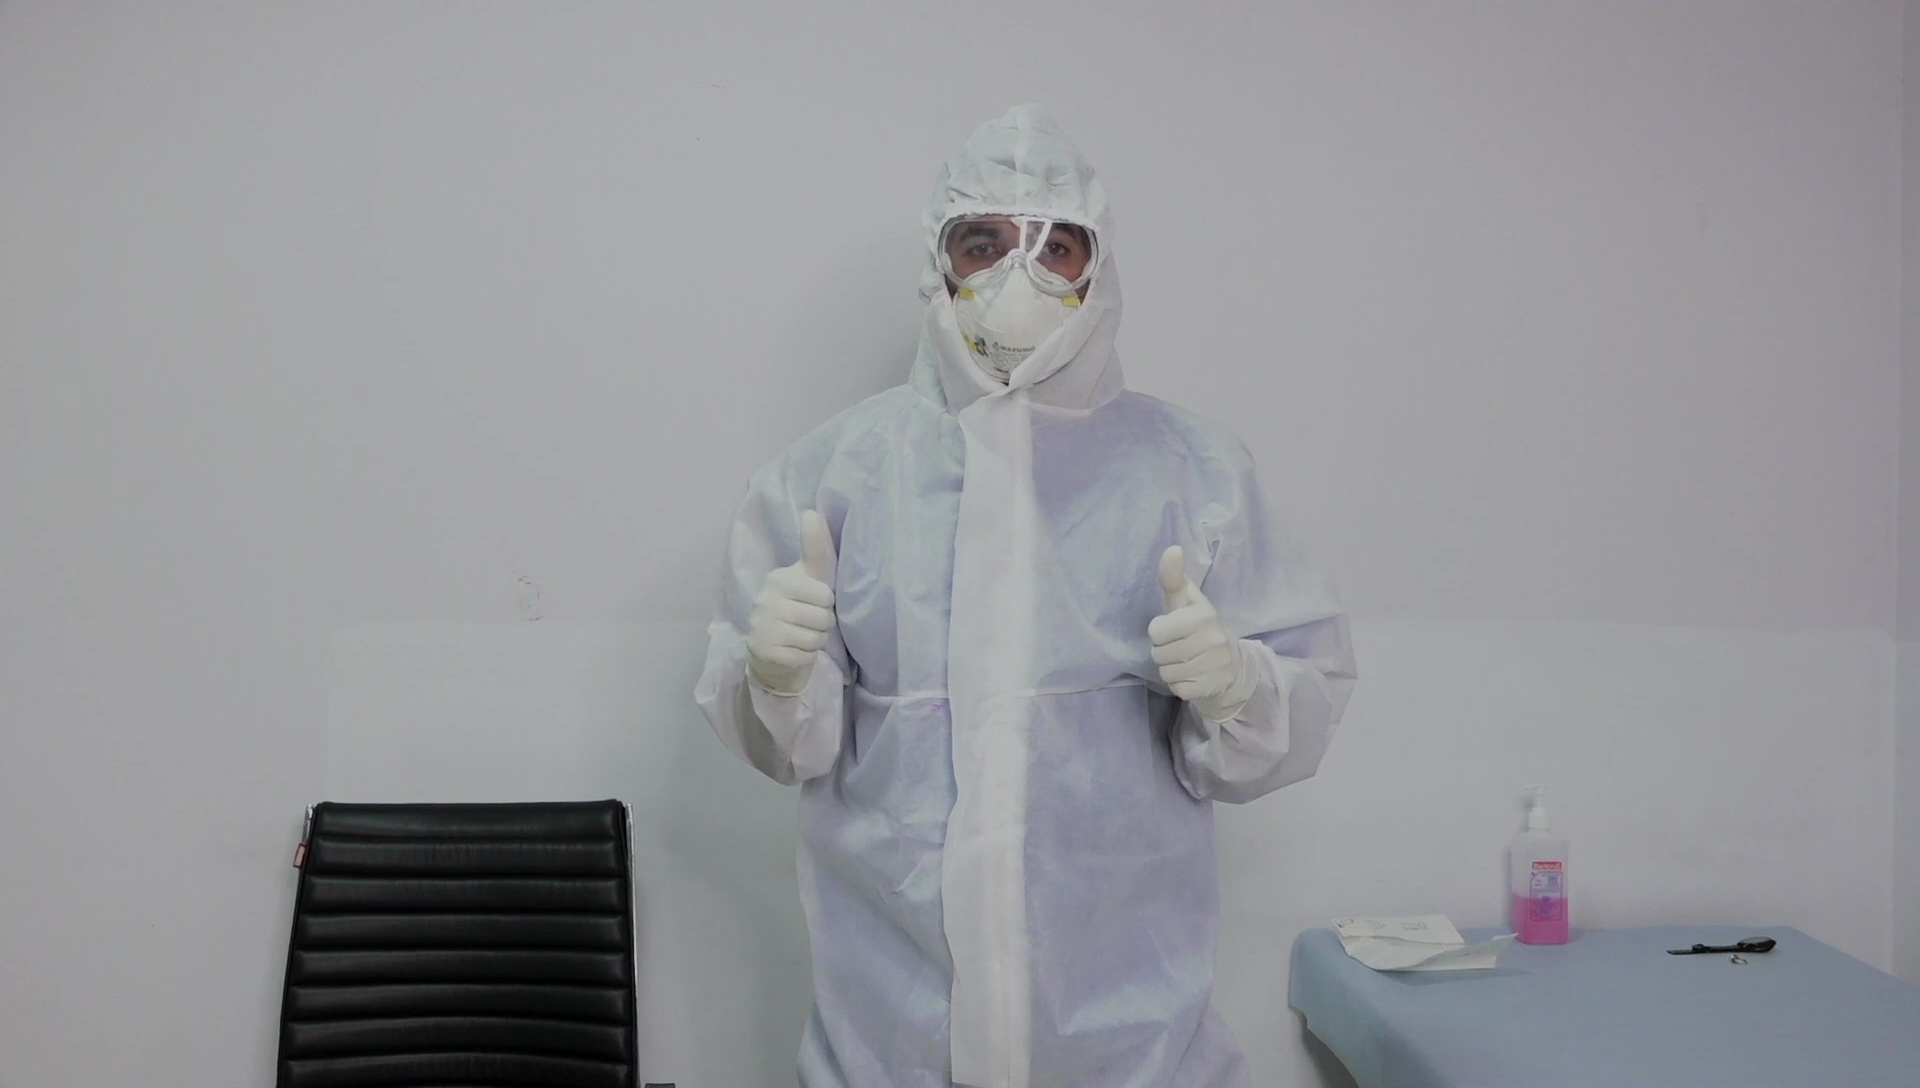Coverall: (694, 103, 1356, 1082)
Gloves: (748, 510, 838, 694), (1146, 545, 1235, 704)
Goggles: (938, 214, 1100, 295)
with_mask: (951, 251, 1082, 389)
